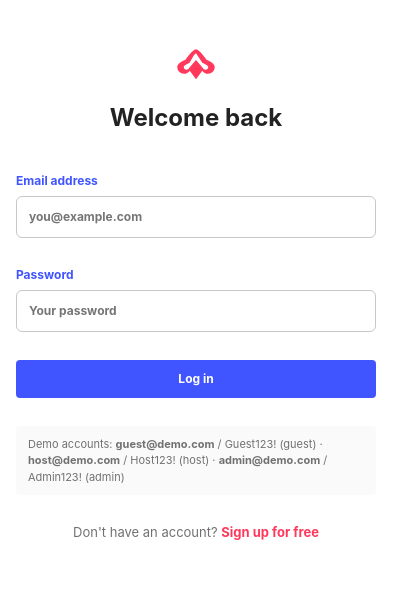
Test: Login page validation › shows an error for an invalid email address
The width and height of the screenshot is (393, 591).
Type "not-an-email" into the field with placeholder "you@example.com" at (196, 217), box [16,196,376,238]
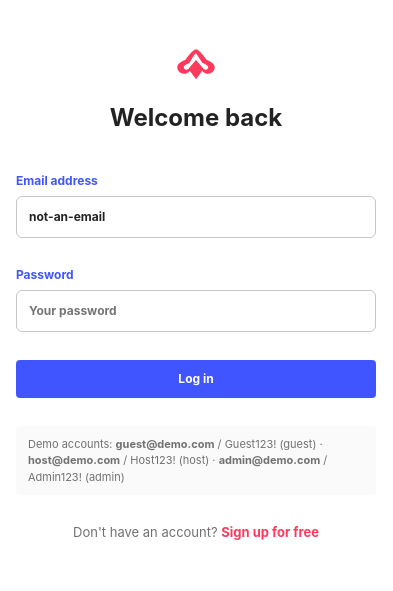
Type "password123" into the password field with placeholder "Your password" at (196, 311), box [16,290,376,332]
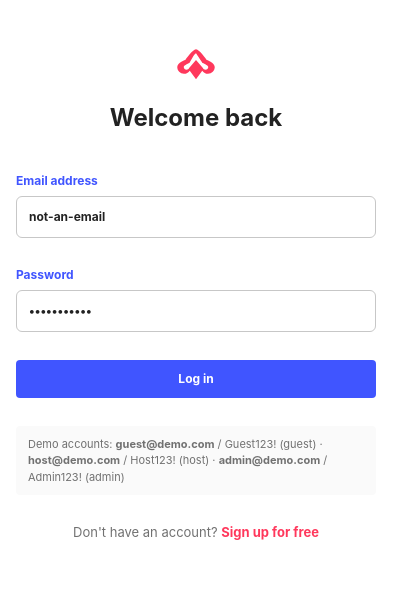
Click the button "Log in" at (196, 379), box [16,360,376,398]
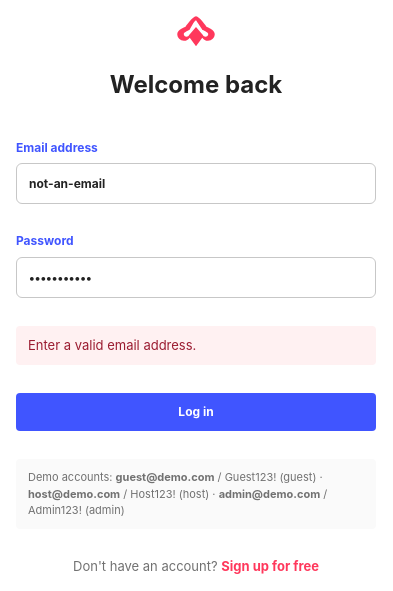
Now the message shows "valid email", box [28,337,196,353]
